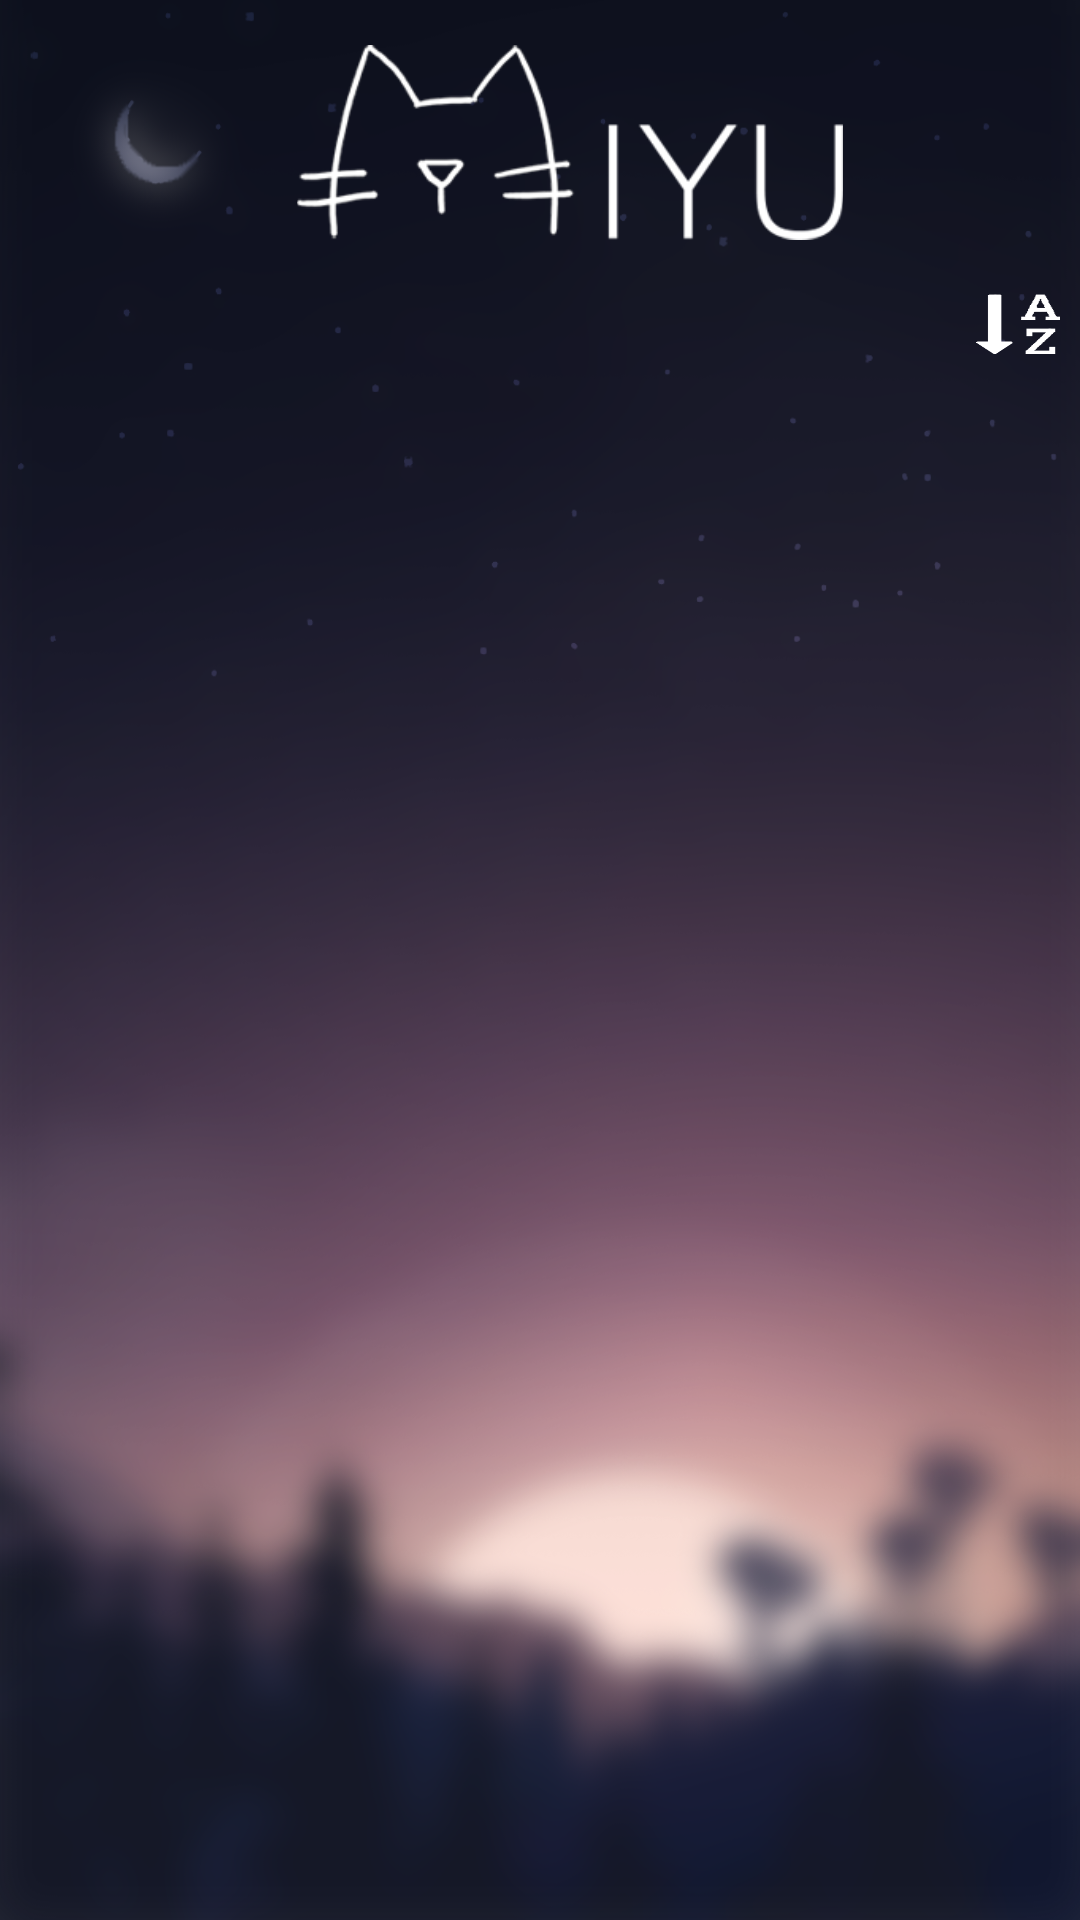

Icon bounding boxes for this 1080*1920 phone screenshot, format {"left": x1, "top": y1, "right": x2, "bottom": y2}:
sort: {"left": 976, "top": 294, "right": 1060, "bottom": 354}
